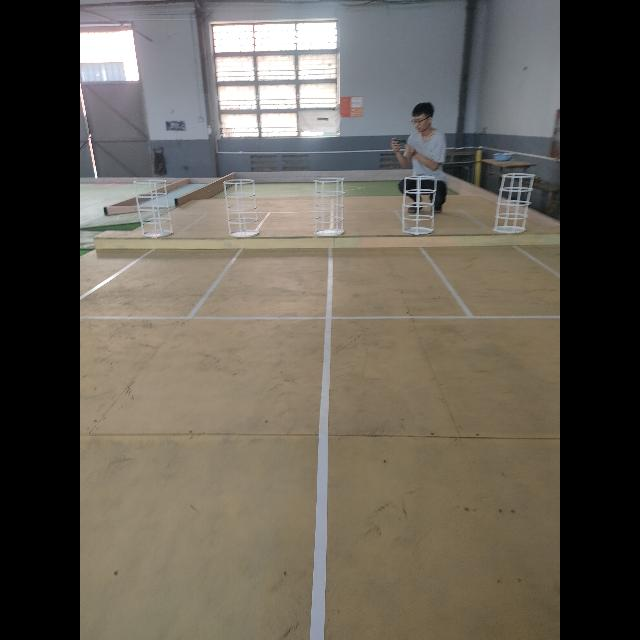S: (494, 172, 536, 236), (133, 180, 173, 239), (223, 178, 260, 239), (402, 175, 438, 236), (314, 178, 345, 238)
